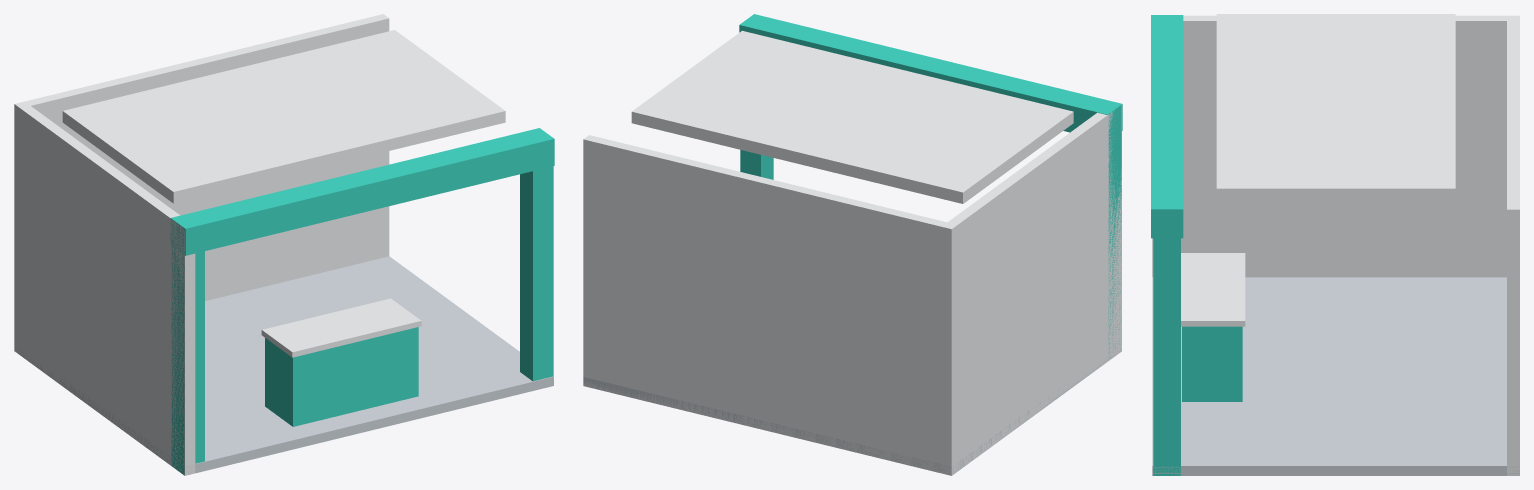
3 renders of one model, left to right at view 1: azimuth 30°, elevation 25°; view 2: azimuth 150°, elevation 25°; view 3: azimuth 270°, elevation 25°, orthographic. The views are drawn at different scales.
Visible parts, largest first — view 1: Exhibition Booth Concept; view 2: Exhibition Booth Concept; view 3: Exhibition Booth Concept.
Boxes of the visible parts, x1,y1,x2,y2 form: Exhibition Booth Concept: [14, 14, 554, 475]; Exhibition Booth Concept: [583, 14, 1122, 475]; Exhibition Booth Concept: [1151, 14, 1519, 475].
Size of the model in its own units: 5 by 3.34 by 4.02.
